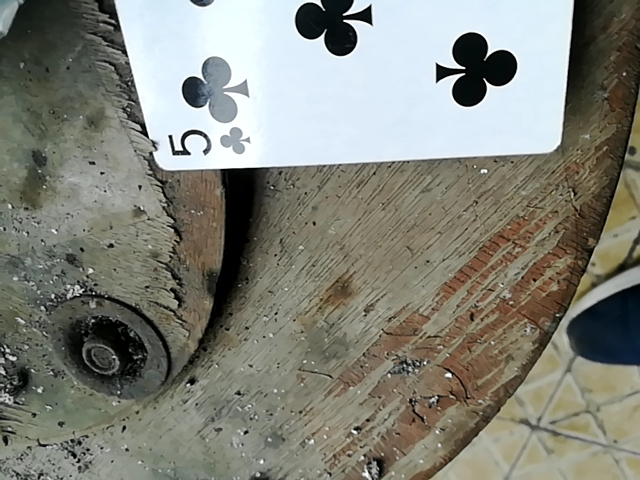mh 5: (85, 0, 570, 165)
